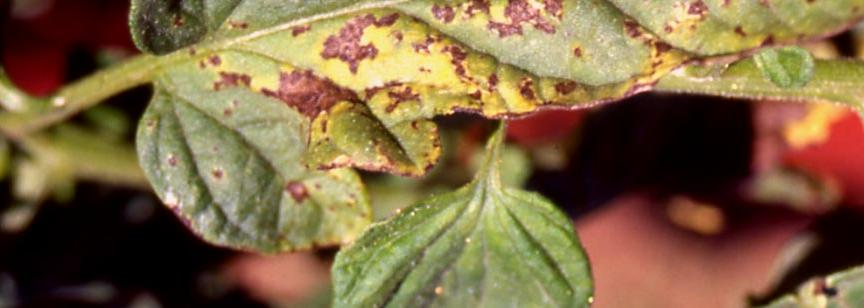Tomato leaf bacterial spot: (104, 0, 864, 250), (294, 135, 611, 308)
